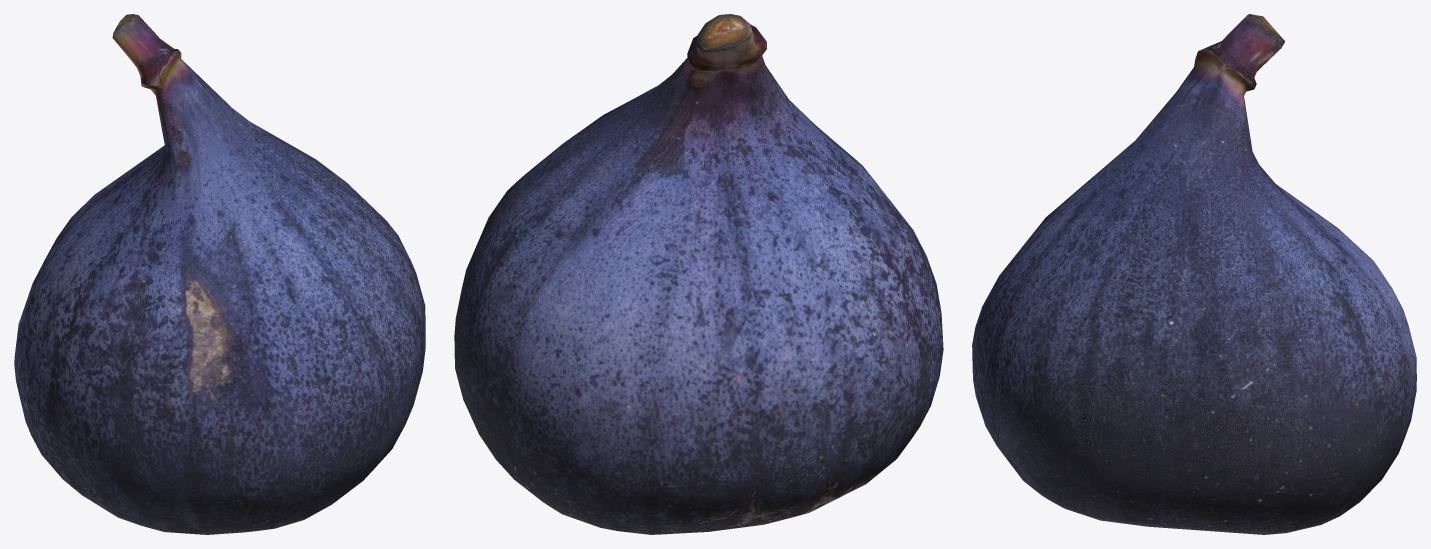
The model's file is PurpleFruitFig.fbx.
3 views of the same model, side by side, from view 1: azimuth 30°, elevation 25°; view 2: azimuth 150°, elevation 25°; view 3: azimuth 270°, elevation 25° (orthographic). The views are drawn at different scales.
Visible parts, largest first — view 1: Fig; view 2: Fig; view 3: Fig.
Part boxes in pixels (x1,y1,x2,y2): Fig: (14,14,425,534); Fig: (454,14,943,534); Fig: (972,14,1416,534).
Bounding box in the file's own units: 0.0632 × 0.0668 × 0.0776.
Materials: 1 (1 with a texture image).
